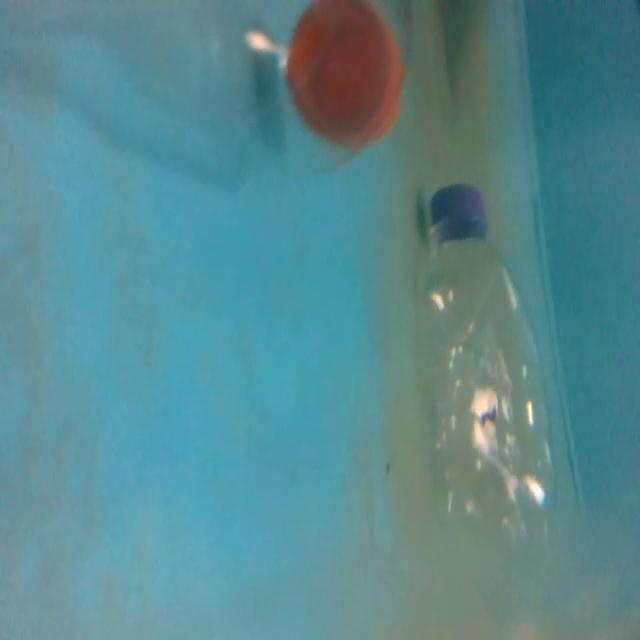plastic bottle: (402, 172, 558, 576)
